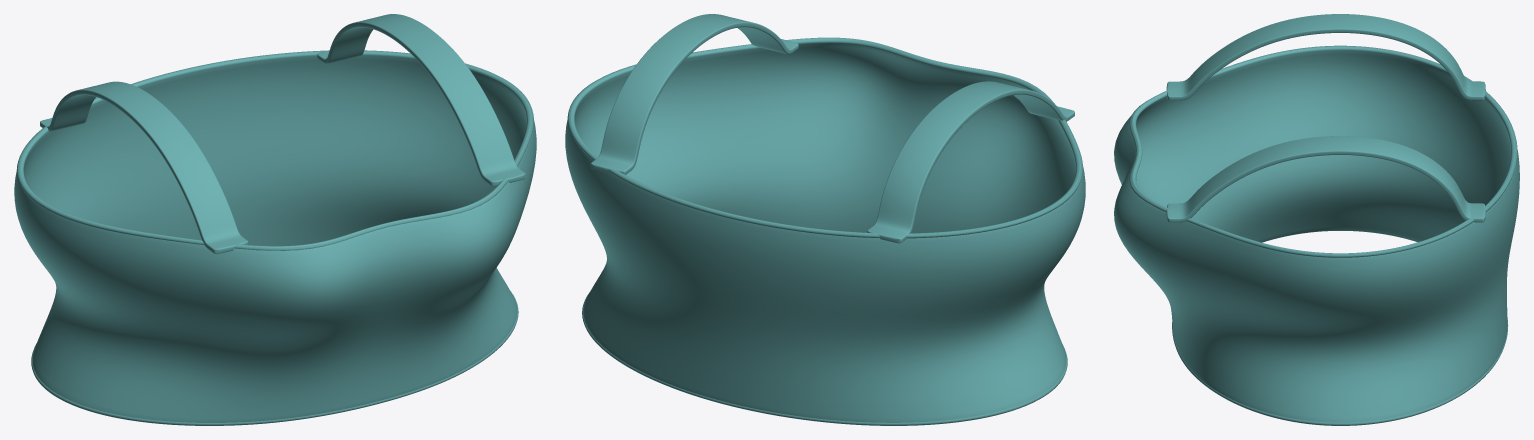
Rendered from Feminine-tank-top.glb.
3 views of the same model, side by side, from view 1: azimuth 30°, elevation 25°; view 2: azimuth 150°, elevation 25°; view 3: azimuth 270°, elevation 25° (orthographic). The views are drawn at different scales.
Visible parts, largest first — view 1: Clothing / tank body, Clothing / tank seated strap 1, Clothing / tank seated strap -1, tank body stitched edge.001 export, tank body stitched edge export; view 2: Clothing / tank body, Clothing / tank seated strap 1, Clothing / tank seated strap -1, tank body stitched edge.001 export, tank body stitched edge export; view 3: Clothing / tank body, Clothing / tank seated strap -1, Clothing / tank seated strap 1, tank body stitched edge.001 export, tank body stitched edge export.
Part boxes in pixels (<box>): Clothing / tank body: <box>14,50,536,422</box>; Clothing / tank seated strap 1: <box>317,14,525,186</box>; Clothing / tank seated strap -1: <box>40,81,248,254</box>; tank body stitched edge.001 export: <box>16,50,533,250</box>; tank body stitched edge export: <box>31,292,518,425</box>; Clothing / tank body: <box>565,37,1085,422</box>; Clothing / tank seated strap 1: <box>590,14,798,174</box>; Clothing / tank seated strap -1: <box>867,81,1074,243</box>; tank body stitched edge.001 export: <box>567,44,1082,238</box>; tank body stitched edge export: <box>582,292,1067,425</box>; Clothing / tank body: <box>1114,46,1519,422</box>; Clothing / tank seated strap -1: <box>1166,14,1485,100</box>; Clothing / tank seated strap 1: <box>1166,136,1485,222</box>; tank body stitched edge.001 export: <box>1129,45,1517,257</box>; tank body stitched edge export: <box>1172,317,1508,425</box>.
Size of the model in its own units: 0.7191 by 0.389 by 0.5821.
